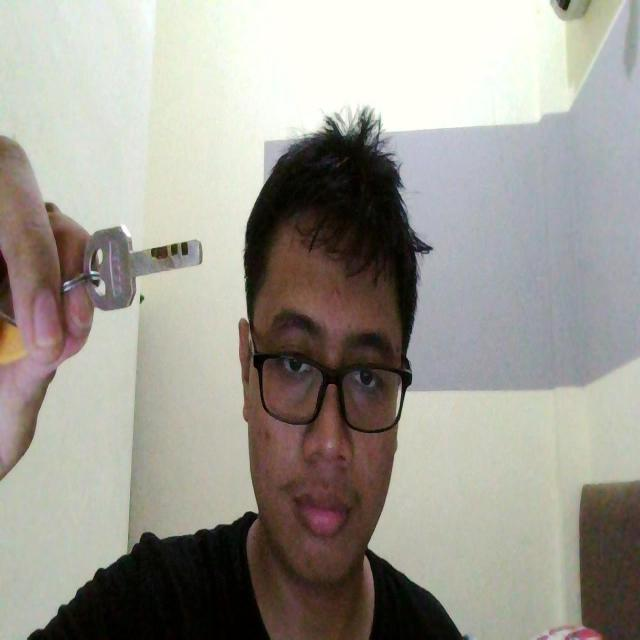kunci_pagar: (82, 202, 208, 325)
